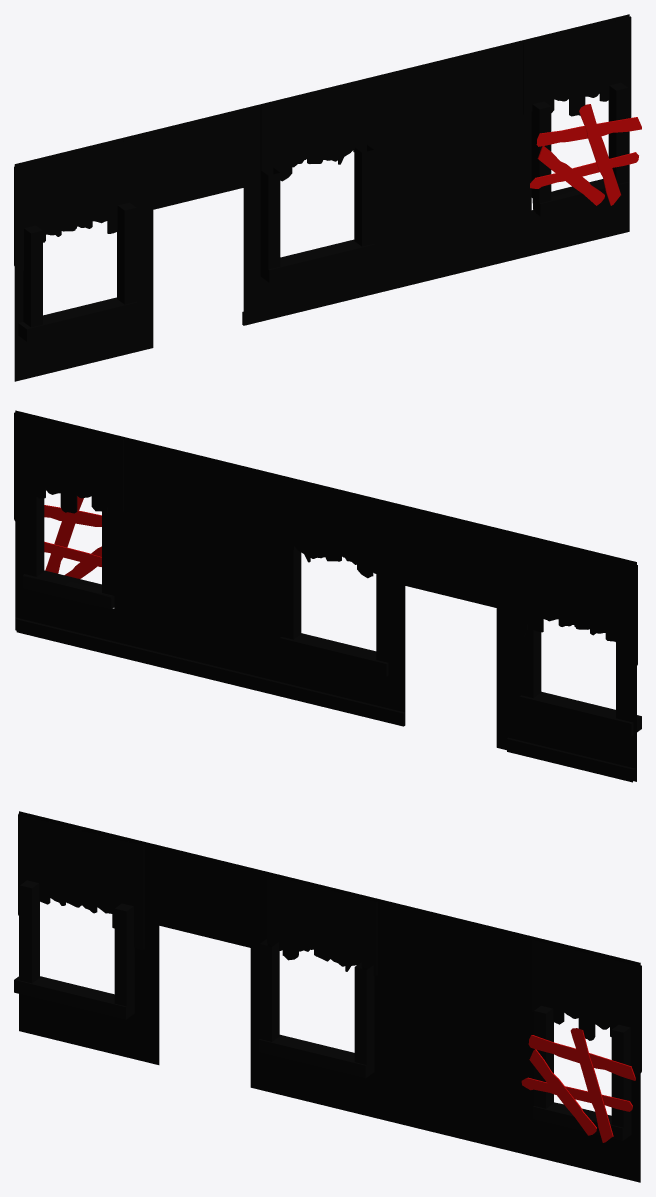
The model's file is MI_OfficeWall01_RearWall.fbx.
The picture shows the model from 3 angles, top to bottom: view 1: azimuth 30°, elevation 25°; view 2: azimuth 150°, elevation 25°; view 3: azimuth 330°, elevation 25°; orthographic projection.
Visible parts, largest first — view 1: SM_ST_Office01.mo; view 2: SM_ST_Office01.mo; view 3: SM_ST_Office01.mo.
Boxes of the visible parts, x1,y1,x2,y2 form: SM_ST_Office01.mo: [14, 14, 641, 381]; SM_ST_Office01.mo: [14, 410, 641, 782]; SM_ST_Office01.mo: [14, 811, 641, 1182].
Bounding box in the file's own units: 1157 × 36.2 × 389.
